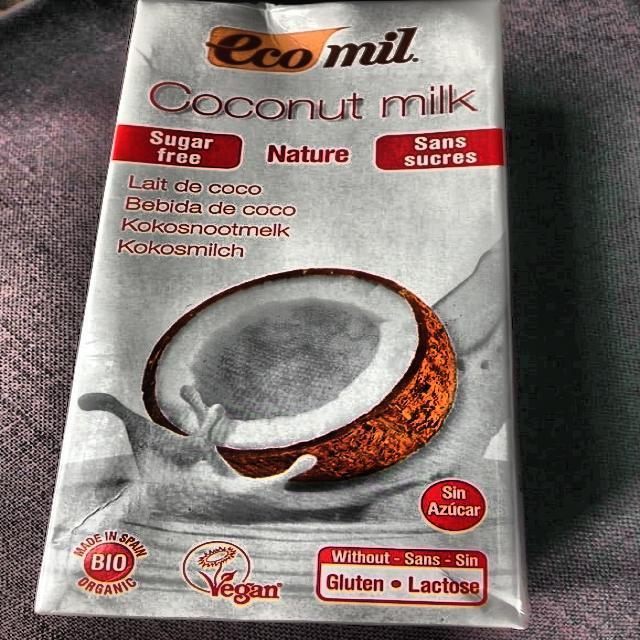cardboard: (33, 0, 530, 628)
